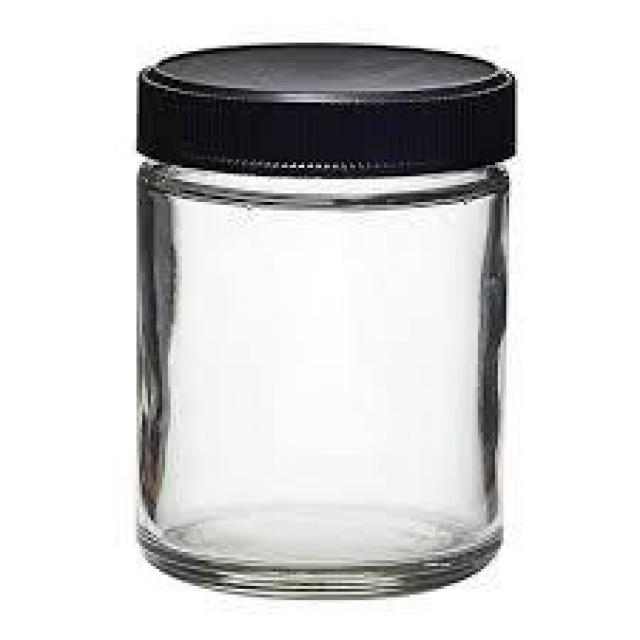non-organic waste: (129, 37, 522, 600)
